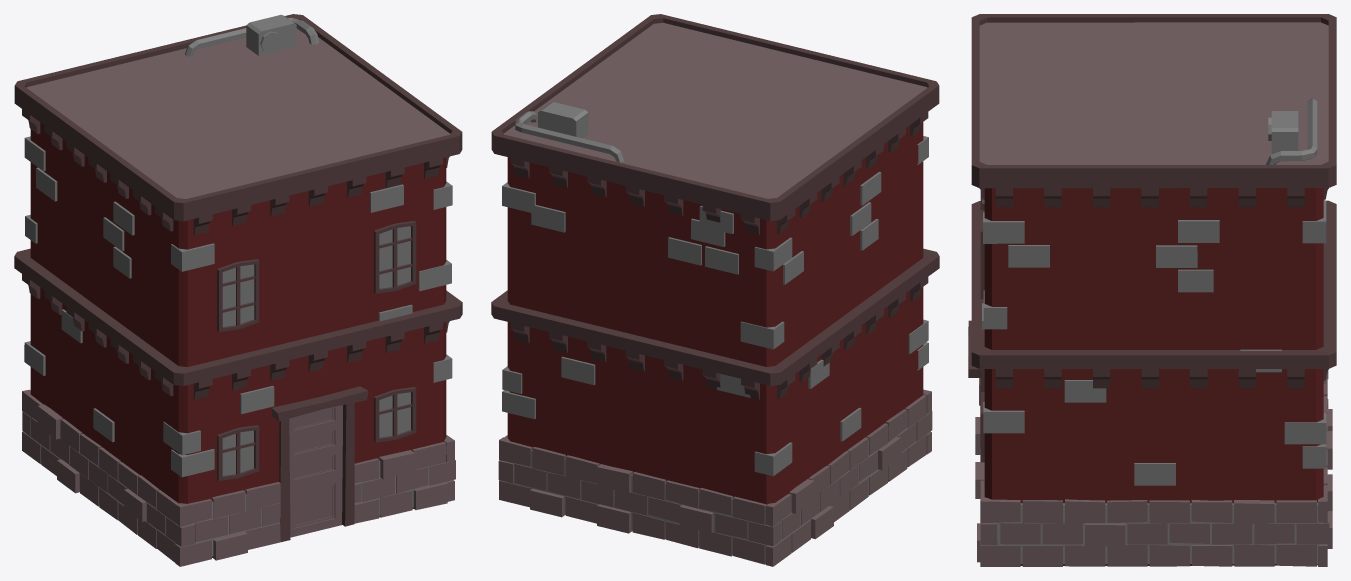
Rendered from 2_story_dark_red_house.fbx.
The picture shows the model from 3 angles, left to right: view 1: azimuth 30°, elevation 25°; view 2: azimuth 150°, elevation 25°; view 3: azimuth 270°, elevation 25°; orthographic projection. The views are drawn at different scales.
Parts seen in each view (by area): view 1: _2_story_dark_red_house; view 2: _2_story_dark_red_house; view 3: _2_story_dark_red_house.
Boxes of the visible parts, left/top/right/bottom form: _2_story_dark_red_house: left=14, top=14, right=462, bottom=566; _2_story_dark_red_house: left=491, top=14, right=939, bottom=566; _2_story_dark_red_house: left=968, top=14, right=1336, bottom=566.
Bounding box in the file's own units: 922 × 1180 × 929.
